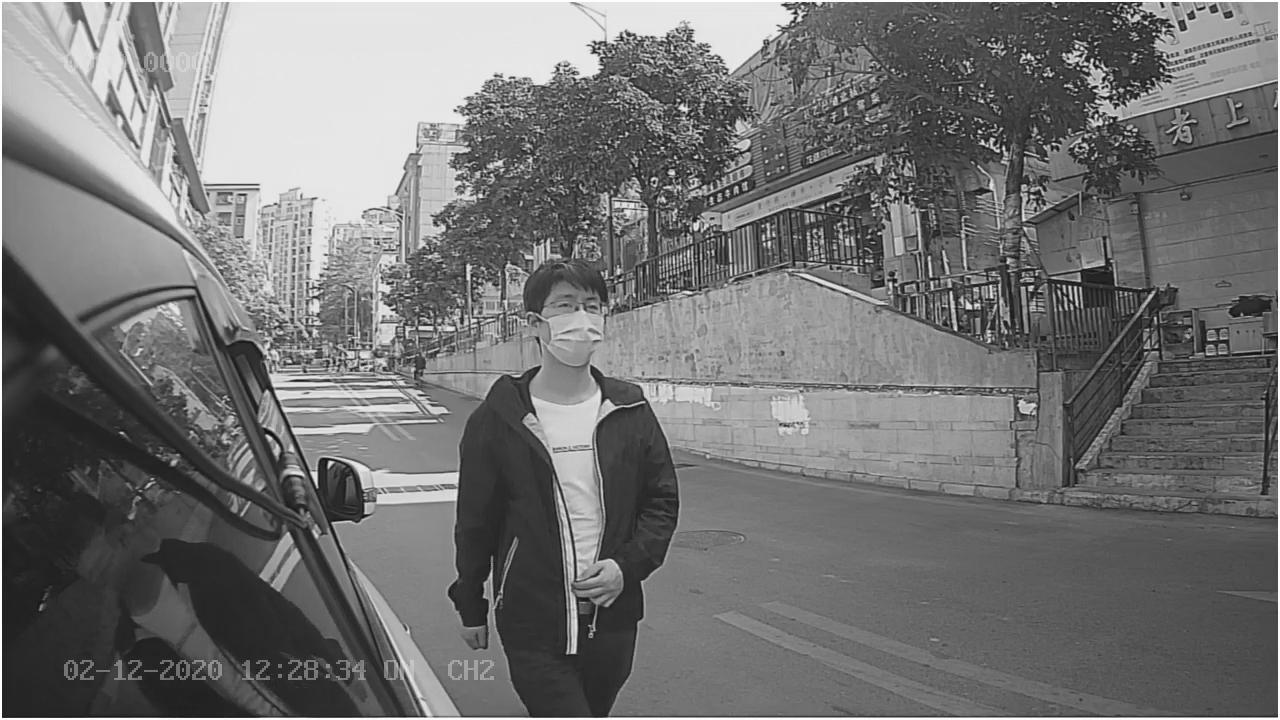person: (452, 245, 678, 650)
